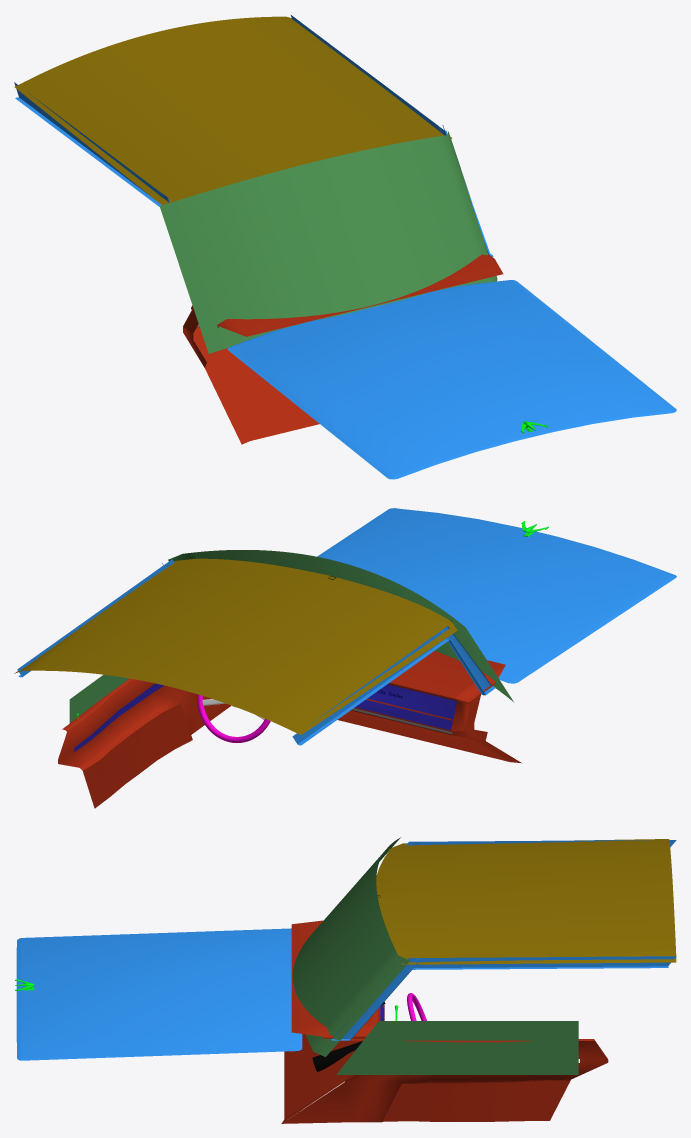
The model's file is Car Dash.FBX.
3 views of the same model, one above another, from view 1: azimuth 30°, elevation 25°; view 2: azimuth 150°, elevation 25°; view 3: azimuth 270°, elevation 25° (orthographic). The views are drawn at different scales.
Parts seen in each view (by area): view 1: ChamferBox001, Object001, Box005, Box001, Box024, Box004; view 2: Object001, ChamferBox001, Car Door, Box001, Box005, Box024, Box008, Object002, Box004; view 3: Object001, ChamferBox001, Car Door, Box008, Box005, Box001, Box004, Box024, Cylinder001.
Boxes of the visible parts, left/top/right/bottom form: ChamferBox001: left=227, top=280, right=676, bottom=479; Object001: left=14, top=16, right=452, bottom=205; Box005: left=159, top=131, right=497, bottom=353; Box001: left=183, top=254, right=503, bottom=444; Box024: left=14, top=82, right=169, bottom=206; Box004: left=291, top=15, right=493, bottom=256; Object001: left=14, top=558, right=457, bottom=734; ChamferBox001: left=317, top=508, right=676, bottom=683; Car Door: left=58, top=678, right=231, bottom=808; Box001: left=337, top=651, right=521, bottom=763; Box005: left=168, top=550, right=513, bottom=701; Box024: left=292, top=626, right=495, bottom=745; Box008: left=69, top=674, right=129, bottom=722; Object002: left=197, top=694, right=270, bottom=742; Box004: left=17, top=558, right=174, bottom=677; Object001: left=376, top=839, right=676, bottom=964; ChamferBox001: left=16, top=928, right=302, bottom=1060; Car Door: left=281, top=1036, right=608, bottom=1123; Box008: left=336, top=1021, right=578, bottom=1074; Box005: left=292, top=837, right=409, bottom=1056; Box001: left=281, top=920, right=384, bottom=1123; Box004: left=331, top=956, right=676, bottom=1040; Box024: left=406, top=840, right=676, bottom=846; Cylinder001: left=312, top=1041, right=362, bottom=1071.
Bounding box in the file's own units: 95.08 × 64.61 × 212.
